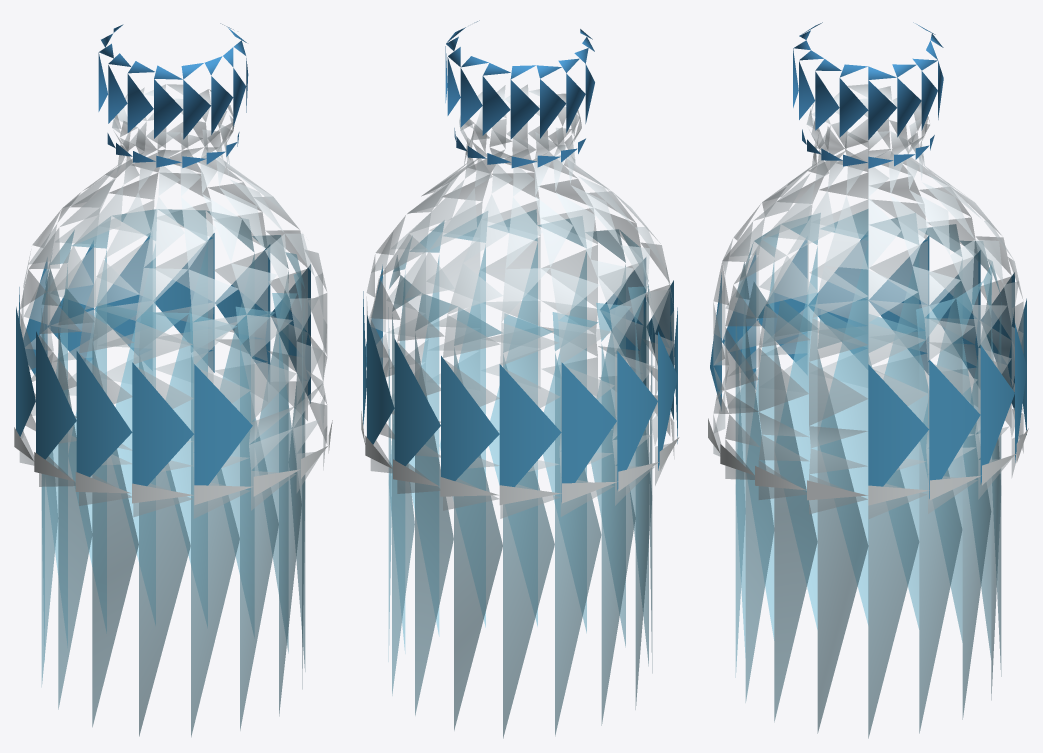
File: 09_plastic_water_bottle_clear_330ml.glb
3 renders of one model, left to right at view 1: azimuth 30°, elevation 25°; view 2: azimuth 150°, elevation 25°; view 3: azimuth 270°, elevation 25°, orthographic.
Parts seen in each view (by area): view 1: ribbed_PET_bottle_shell; view 2: ribbed_PET_bottle_shell; view 3: ribbed_PET_bottle_shell.
Part boxes in pixels (<box>): ribbed_PET_bottle_shell: <box>14,23,332,736</box>; ribbed_PET_bottle_shell: <box>361,20,679,738</box>; ribbed_PET_bottle_shell: <box>708,22,1028,738</box>.
Size of the model in its own units: 0.0724 by 0.16 by 0.0724.
